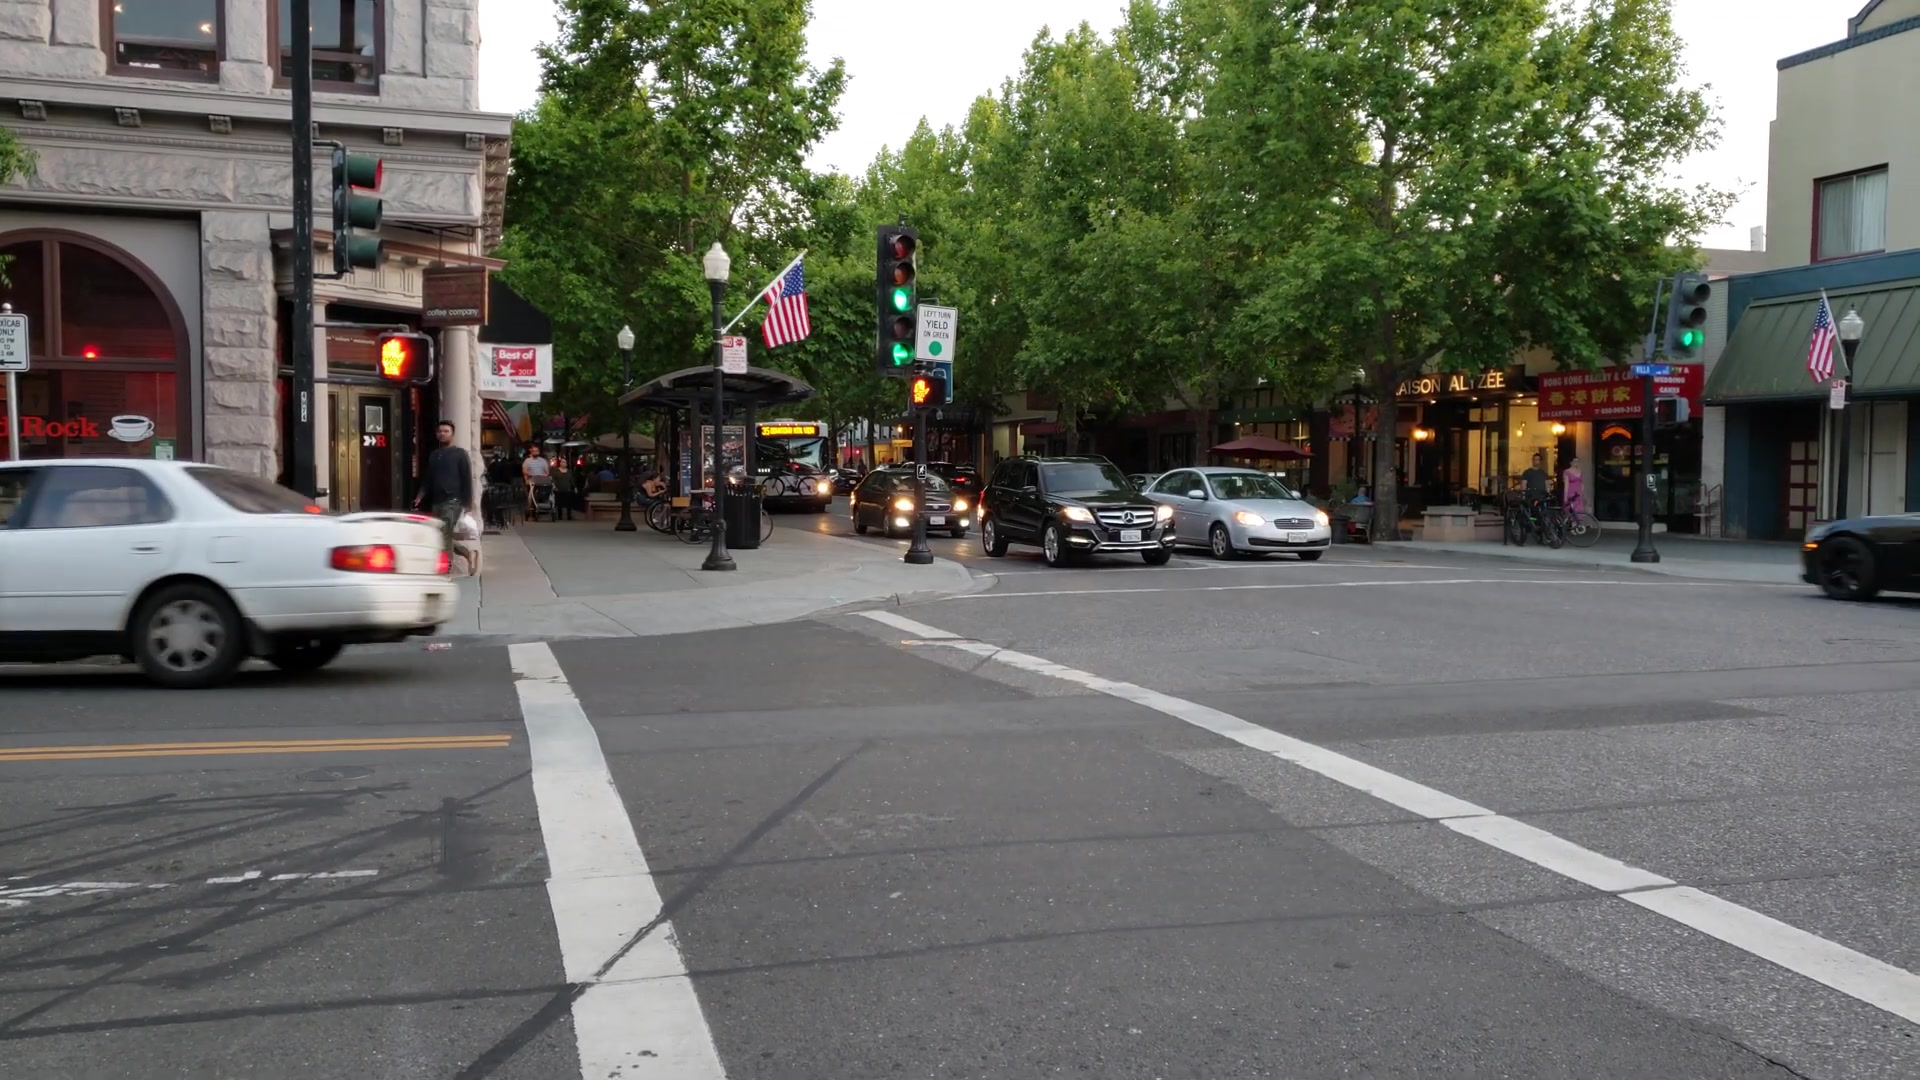vehicle: (978, 456, 1178, 566), (1145, 469, 1332, 559), (851, 472, 969, 535)
